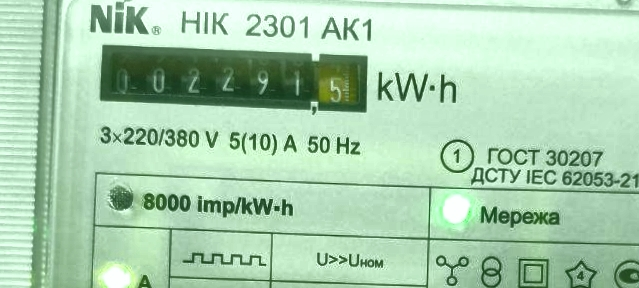0: (112, 63, 130, 93), (150, 64, 166, 93)
1: (289, 65, 303, 99)
2: (185, 64, 201, 94), (220, 63, 234, 92)
5: (327, 73, 343, 103)
9: (254, 66, 270, 96)
screen: (95, 38, 373, 118)
